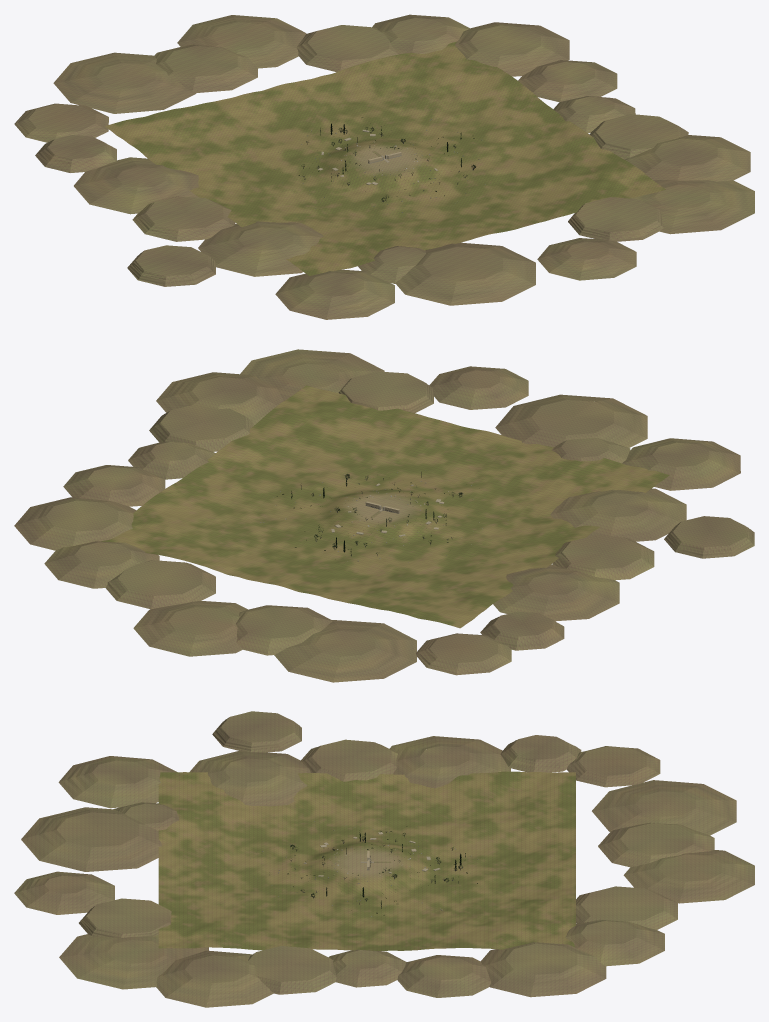
File: alacahoyuk-sfenksli-kapi-baked.glb
3 views of the same model, one above another, from view 1: azimuth 30°, elevation 25°; view 2: azimuth 150°, elevation 25°; view 3: azimuth 270°, elevation 25° (orthographic). The views are drawn at different scales.
Parts seen in each view (by area): view 1: alacahoyuk-sfenksli-kapi-terrain, alacahoyuk-sfenksli-kapi-ground, alacahoyuk-sfenksli-kapi-near, alacahoyuk-sfenksli-kapi-flora; view 2: alacahoyuk-sfenksli-kapi-terrain, alacahoyuk-sfenksli-kapi-ground, alacahoyuk-sfenksli-kapi-near, alacahoyuk-sfenksli-kapi-flora; view 3: alacahoyuk-sfenksli-kapi-terrain, alacahoyuk-sfenksli-kapi-ground, alacahoyuk-sfenksli-kapi-near, alacahoyuk-sfenksli-kapi-flora.
Boxes of the visible parts, x1,y1,x2,y2 form: alacahoyuk-sfenksli-kapi-terrain: (105, 41, 665, 275); alacahoyuk-sfenksli-kapi-ground: (14, 14, 754, 319); alacahoyuk-sfenksli-kapi-near: (28, 18, 717, 296); alacahoyuk-sfenksli-kapi-flora: (275, 117, 485, 212); alacahoyuk-sfenksli-kapi-terrain: (101, 385, 669, 628); alacahoyuk-sfenksli-kapi-ground: (14, 349, 754, 682); alacahoyuk-sfenksli-kapi-near: (45, 363, 746, 662); alacahoyuk-sfenksli-kapi-flora: (260, 468, 508, 562); alacahoyuk-sfenksli-kapi-terrain: (158, 771, 575, 950); alacahoyuk-sfenksli-kapi-ground: (14, 717, 754, 1007); alacahoyuk-sfenksli-kapi-near: (44, 711, 722, 982); alacahoyuk-sfenksli-kapi-flora: (250, 821, 478, 916).
Size of the model in its own units: 840 by 26.82 by 899.
13 materials, 11 textured.
